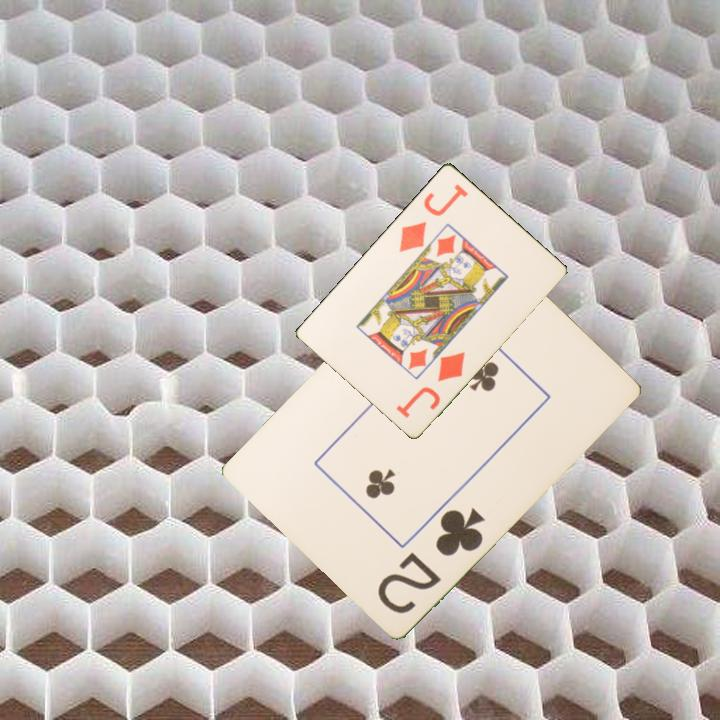2c: (373, 503, 489, 616)
Jd: (395, 180, 471, 255), (392, 347, 468, 421)
